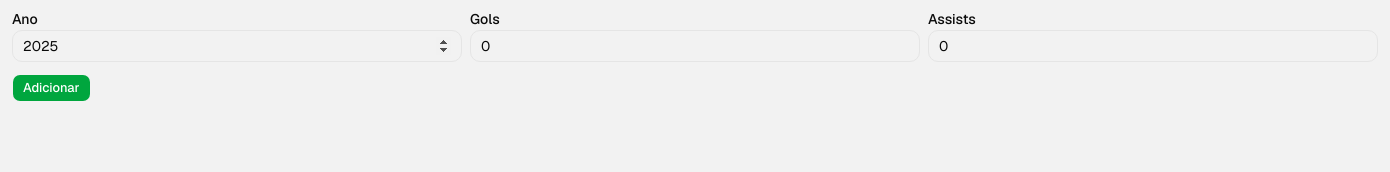
Test case: RetroactiveStatForm › submission › resets form to defaults after successful submit
Step 1. Replace the text in the number field labelled "Gols" with "10" → (695, 46), box [470, 30, 920, 62]
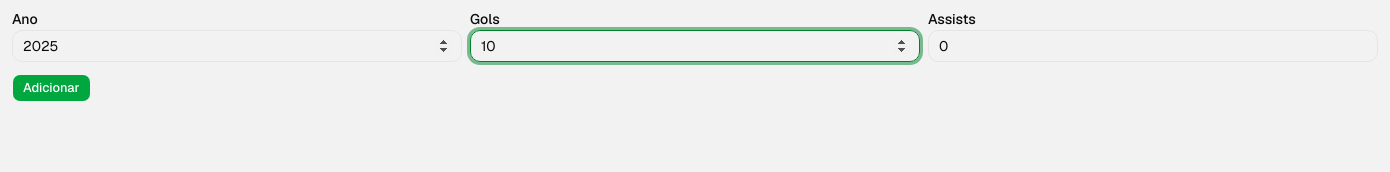
Step 2. Click the button "Adicionar" → (51, 88), box [12, 74, 90, 102]
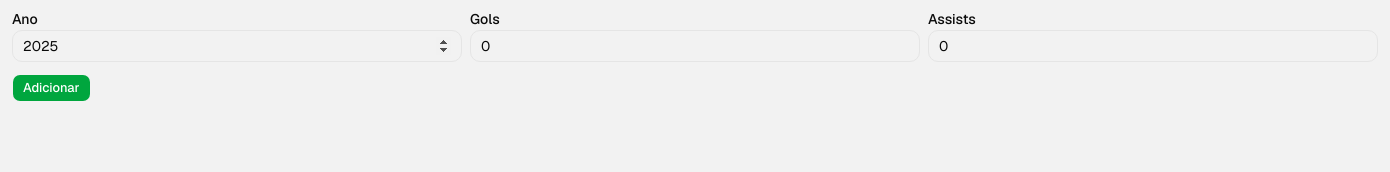
Check: the number field labelled "Gols" holds "0", box [470, 30, 920, 62]
